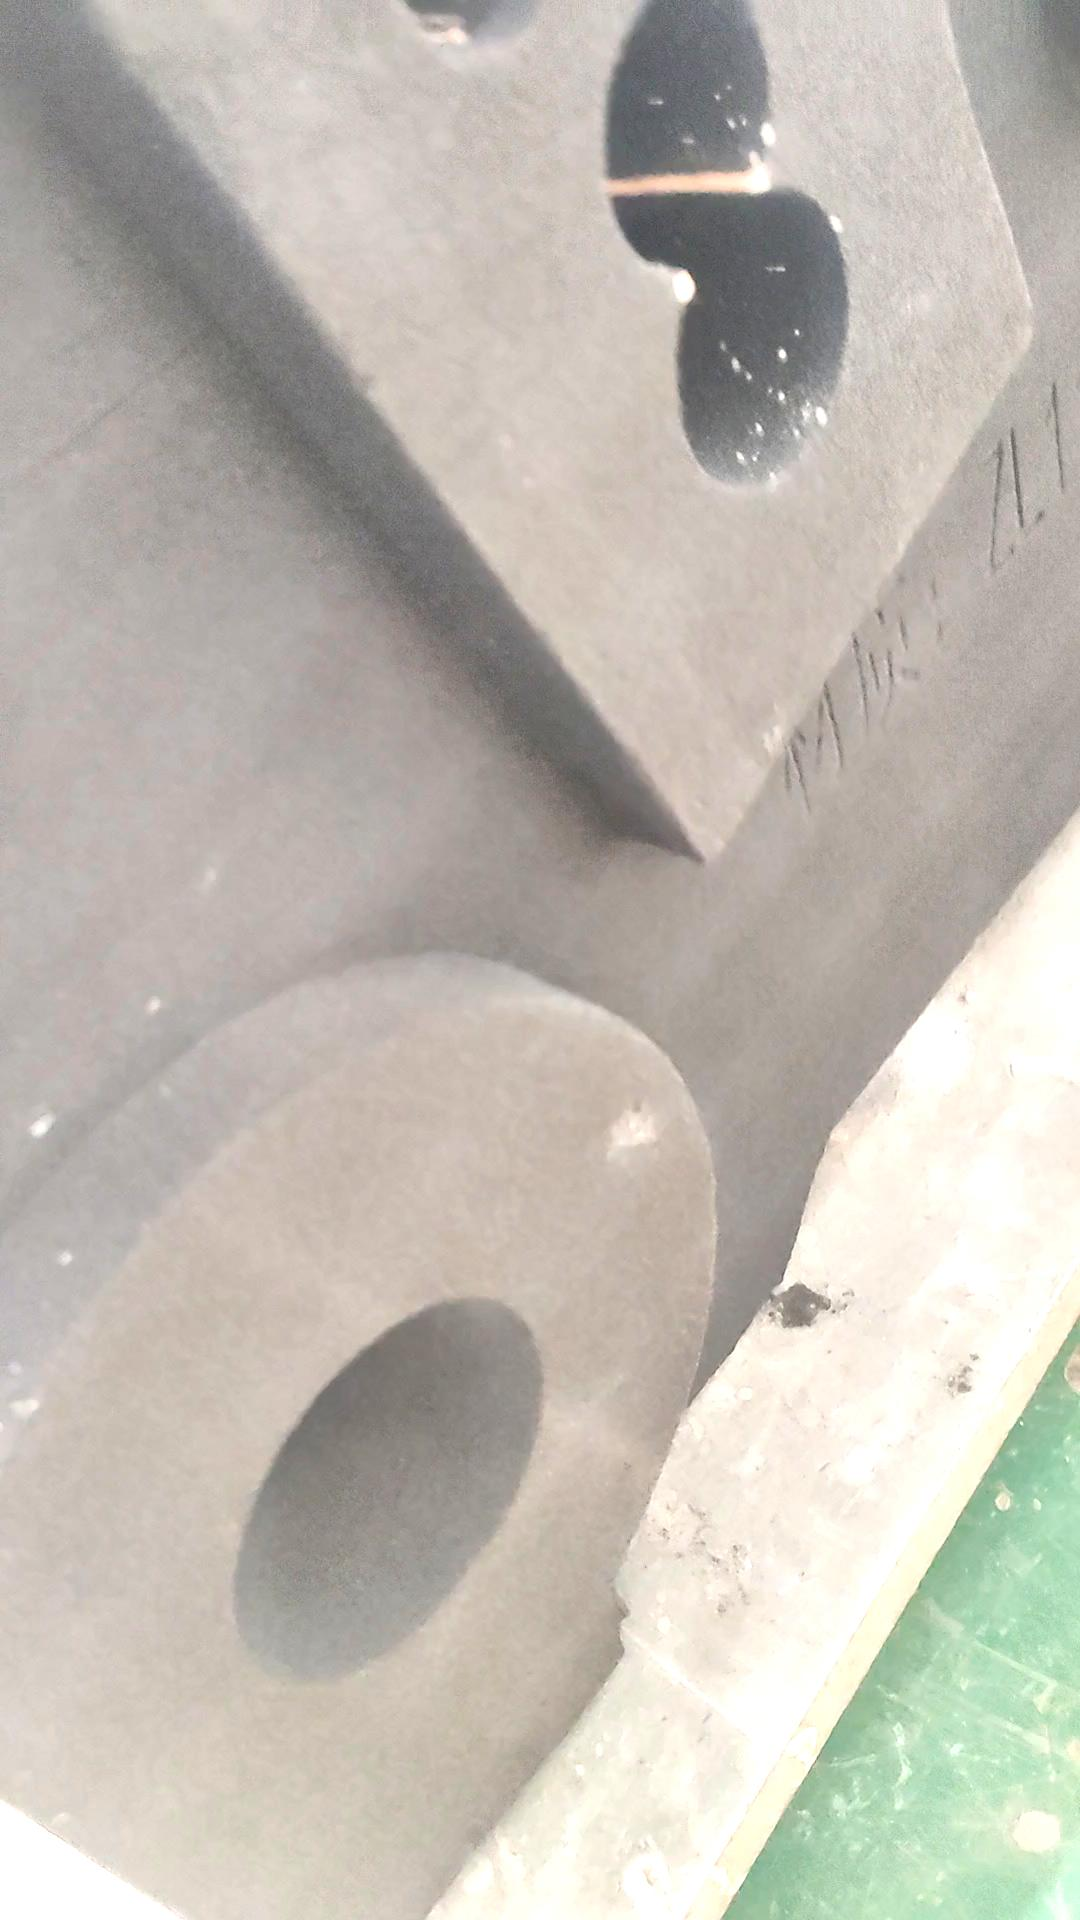pouring hole: (229, 1288, 543, 1684)
